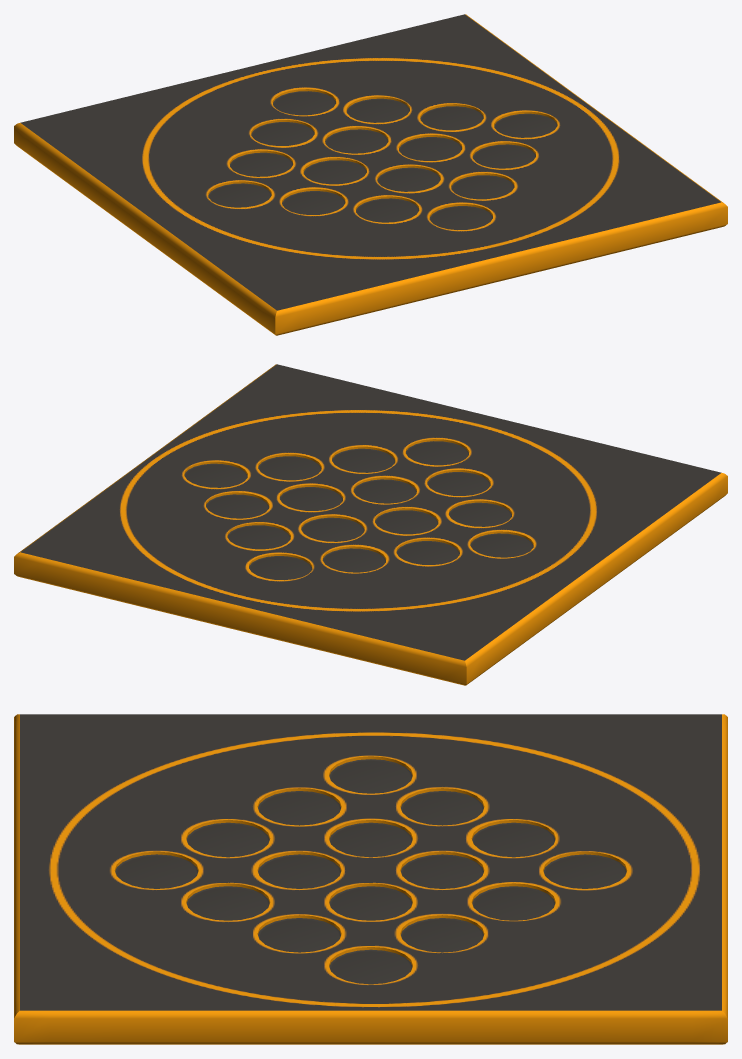
File: Boad_4poly.fbx
The picture shows the model from 3 angles, top to bottom: view 1: azimuth 30°, elevation 25°; view 2: azimuth 150°, elevation 25°; view 3: azimuth 270°, elevation 25°; orthographic projection. The views are drawn at different scales.
Visible parts, largest first — view 1: Boad; view 2: Boad; view 3: Boad.
Part boxes in pixels (x1,y1,x2,y2): Boad: [14, 14, 727, 335]; Boad: [14, 364, 727, 685]; Boad: [14, 714, 727, 1044].
Bounding box in the file's own units: 19 × 1 × 19.
Materials: 1 (1 with a texture image).
